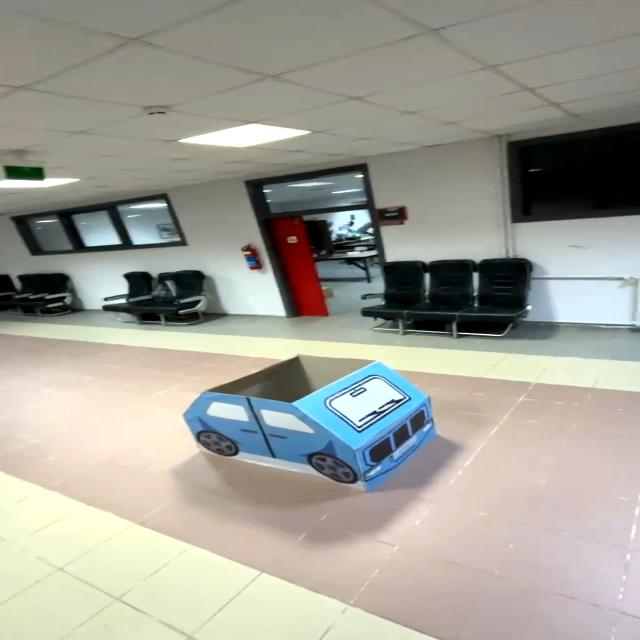blue_car: (156, 343, 478, 503)
